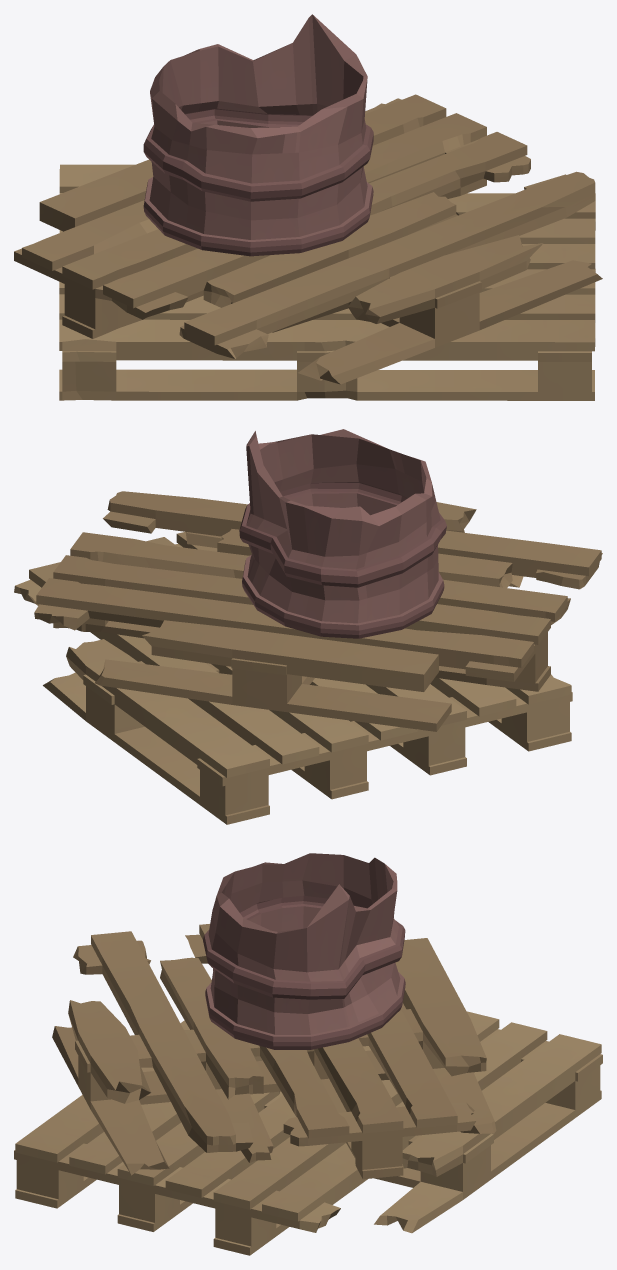
Rendered from pallet_cluster_2.glb.
3 views of the same model, one above another, from view 1: azimuth 30°, elevation 25°; view 2: azimuth 150°, elevation 25°; view 3: azimuth 270°, elevation 25° (orthographic). The views are drawn at different scales.
Parts seen in each view (by area): view 1: pallet_cluster_2; view 2: pallet_cluster_2; view 3: pallet_cluster_2.
Part boxes in pixels (left/top/right/bottom): pallet_cluster_2: left=14, top=14, right=602, bottom=400; pallet_cluster_2: left=14, top=429, right=602, bottom=824; pallet_cluster_2: left=14, top=853, right=602, bottom=1255.
Size of the model in its own units: 1.94 by 0.9463 by 1.9.
1 material, 1 textured.
